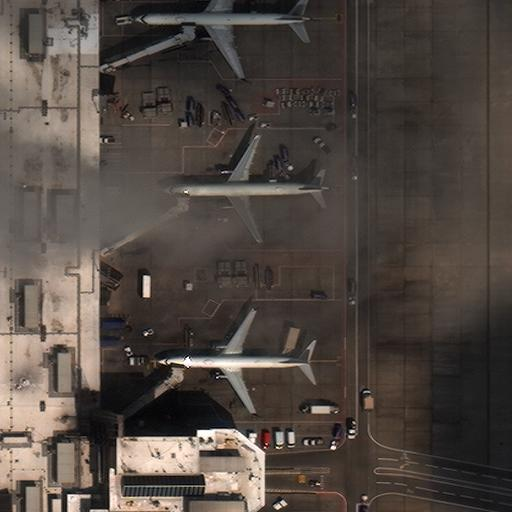Large Civil Transport: (133, 0, 312, 79)
Medium Civil Transport: (161, 136, 331, 241), (155, 310, 313, 412)
